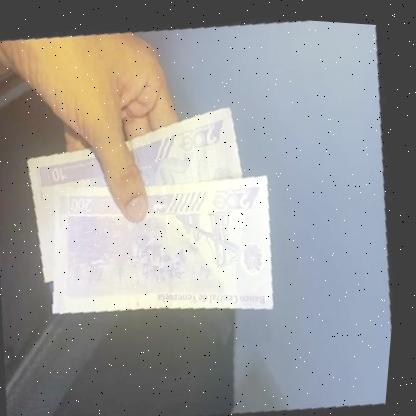two_hundred-back-vef: (28, 142, 298, 350)
